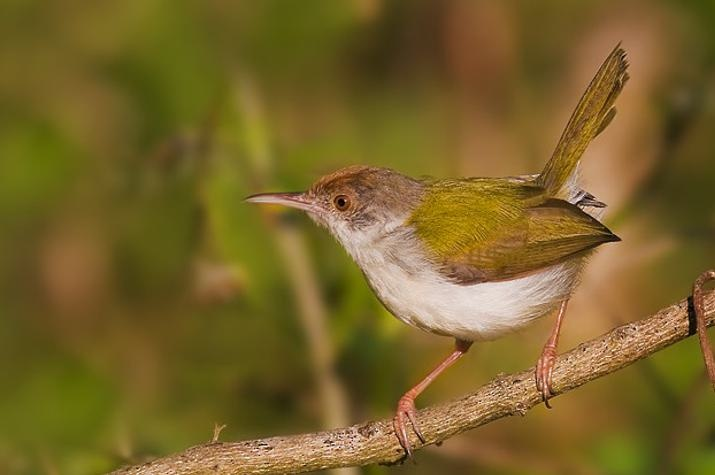tailorbird: (241, 37, 636, 460)
